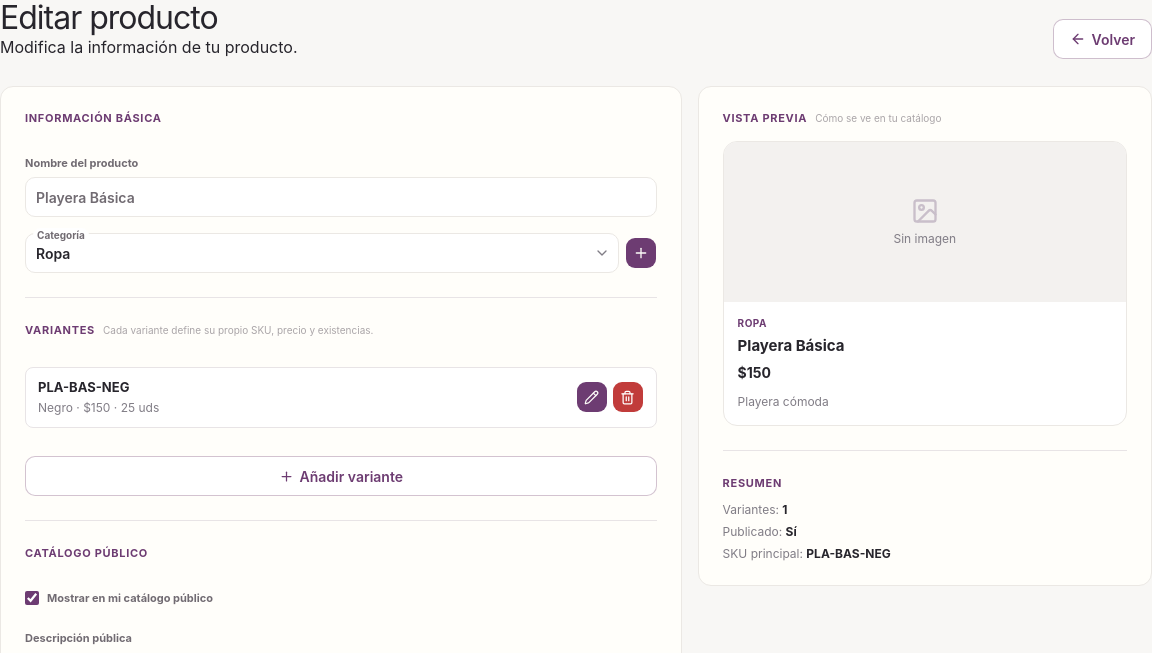
Test: ProductCreatePage › Eliminar variante › debería mostrar confirmación al eliminar variante
Step 1. Click the button named "Eliminar variante PLA-BAS-NEG" → (628, 397), box [612,381,644,413]
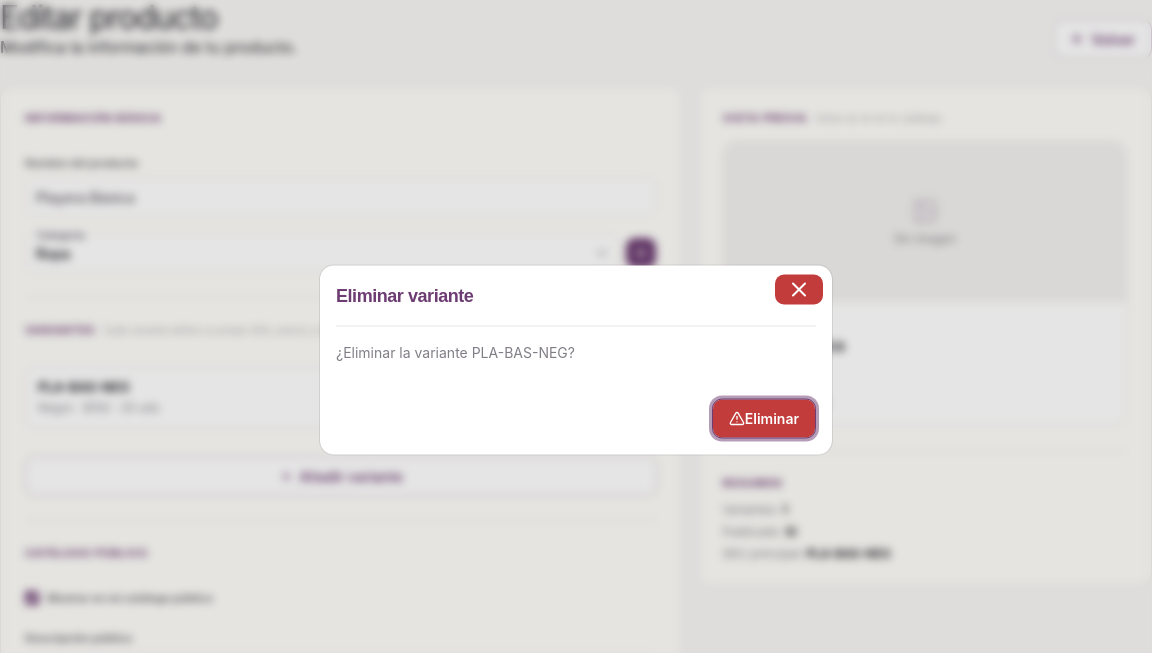
expect the text "¿Eliminar la variante PLA-BAS-NEG?" is shown: met, box [336,344,575,360]
